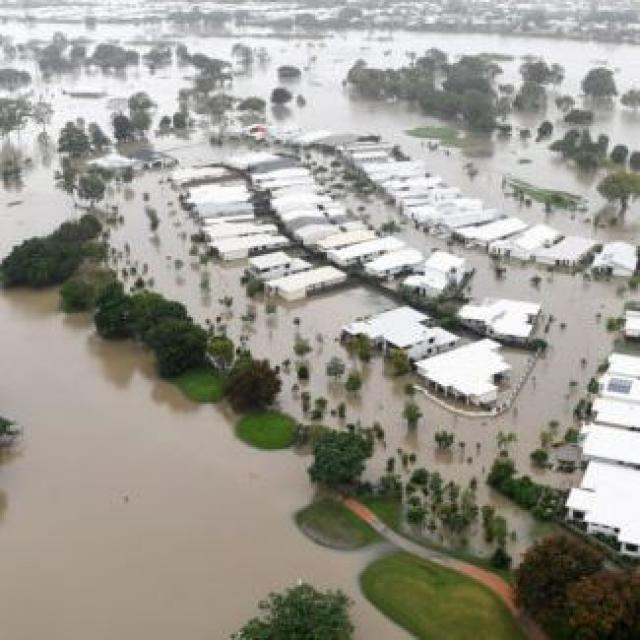flood: (109, 172, 624, 502), (0, 289, 415, 640), (271, 71, 601, 236), (0, 14, 640, 96), (0, 40, 191, 260), (86, 145, 139, 176), (345, 194, 401, 222), (234, 69, 281, 98), (150, 136, 186, 160), (620, 199, 640, 242)
house: (414, 339, 508, 414), (266, 266, 346, 303), (588, 240, 638, 286)
